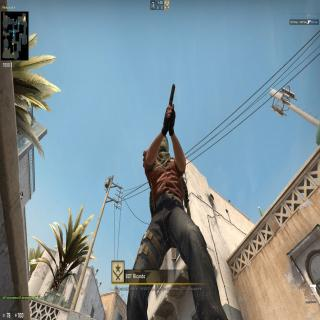T-Head: (156, 126, 170, 155)
